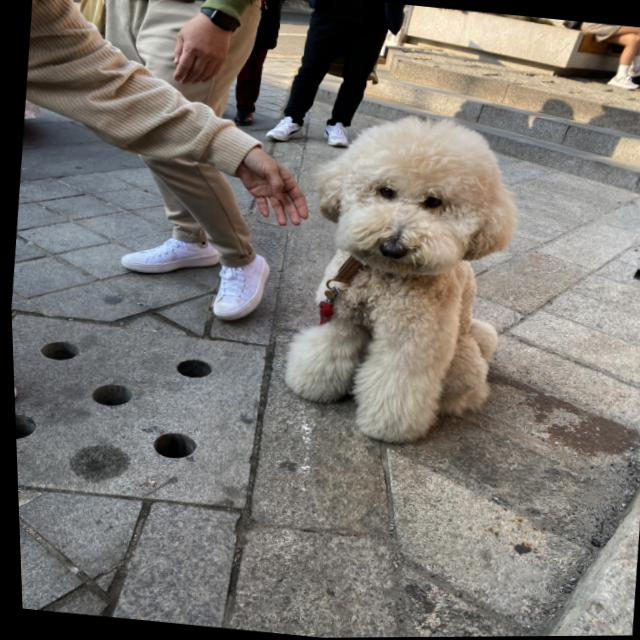dog-poodle: (306, 106, 531, 284)
